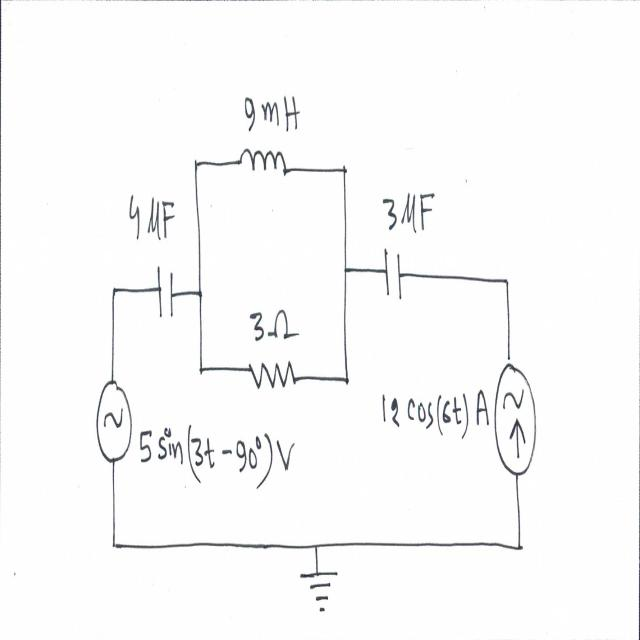ac_current: (93, 373, 134, 473)
capacitor: (383, 242, 405, 307), (157, 256, 176, 326)
current_source: (491, 355, 539, 483)
ground: (298, 565, 339, 617)
inductor: (237, 136, 291, 184)
resistor: (245, 353, 300, 398)
